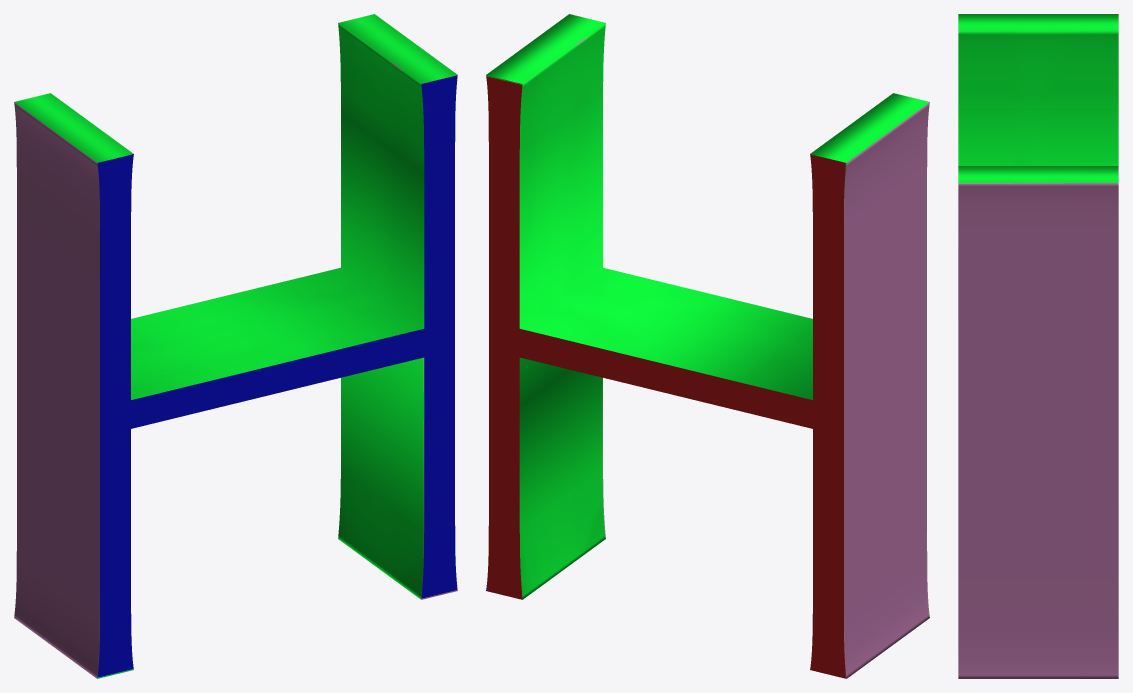
3 renders of one model, left to right at view 1: azimuth 30°, elevation 25°; view 2: azimuth 150°, elevation 25°; view 3: azimuth 270°, elevation 25°, orthographic. The views are drawn at different scales.
Visible parts, largest first — view 1: Text; view 2: Text; view 3: Text.
Part boxes in pixels (left/top/right/bottom): Text: left=14, top=14, right=457, bottom=678; Text: left=486, top=14, right=929, bottom=678; Text: left=958, top=14, right=1118, bottom=678.
Size of the model in its own units: 0.4249 by 0.5809 by 0.17.
1 material, 1 textured.
